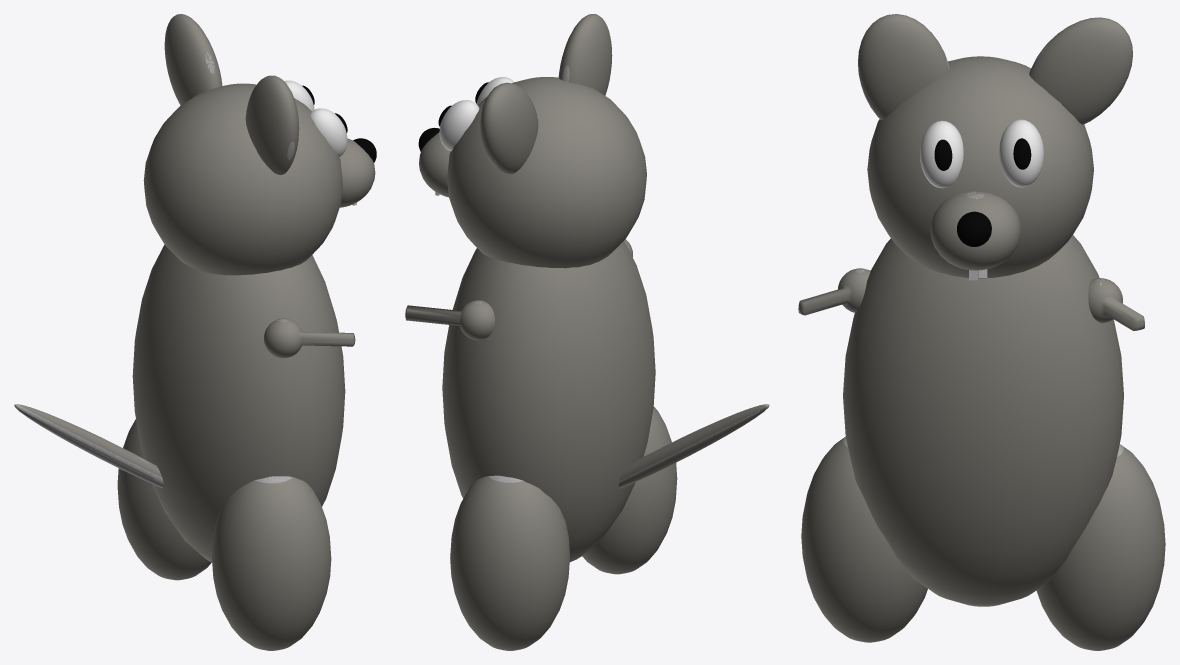
The model's file is rat.fbx.
3 views of the same model, side by side, from view 1: azimuth 30°, elevation 25°; view 2: azimuth 150°, elevation 25°; view 3: azimuth 270°, elevation 25° (orthographic). The views are drawn at different scales.
Parts seen in each view (by area): view 1: Sphere_005, Sphere_003; view 2: Sphere_005, Sphere; view 3: Sphere_005, Sphere, Sphere_003, Sphere_004.
Part boxes in pixels (x1,y1,x2,y2): Sphere_005: (14, 14, 375, 650); Sphere_003: (310, 108, 347, 157); Sphere_005: (405, 14, 769, 650); Sphere: (439, 100, 479, 151); Sphere_005: (798, 14, 1165, 650); Sphere: (999, 119, 1043, 187); Sphere_003: (920, 120, 963, 188); Sphere_004: (957, 211, 991, 246).
Bounding box in the file's own units: 2.05 × 3.11 × 1.62.
